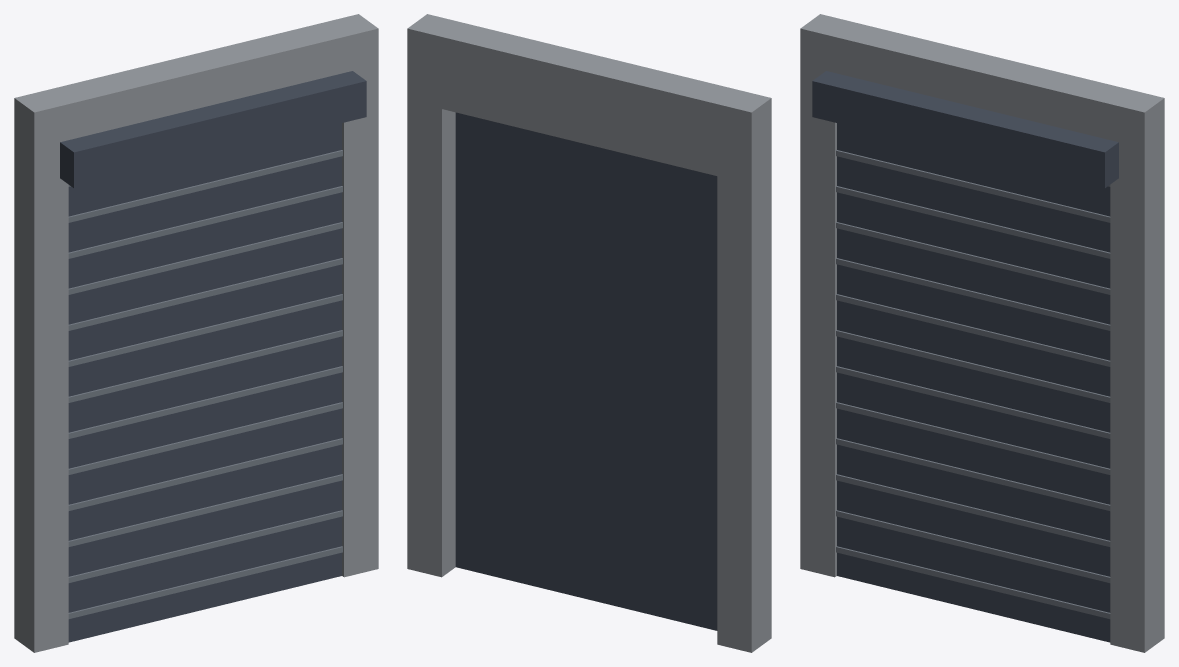
File: wall_garage_door.glb
The picture shows the model from 3 angles, left to right: view 1: azimuth 30°, elevation 25°; view 2: azimuth 150°, elevation 25°; view 3: azimuth 330°, elevation 25°; orthographic projection.
Parts seen in each view (by area): view 1: wall_garage_door; view 2: wall_garage_door; view 3: wall_garage_door.
Boxes of the visible parts, x1=… form: wall_garage_door: x1=14, y1=14, x2=378, y2=652; wall_garage_door: x1=407, y1=14, x2=771, y2=652; wall_garage_door: x1=800, y1=14, x2=1164, y2=652.
Size of the model in its own units: 2 by 3 by 0.34.
